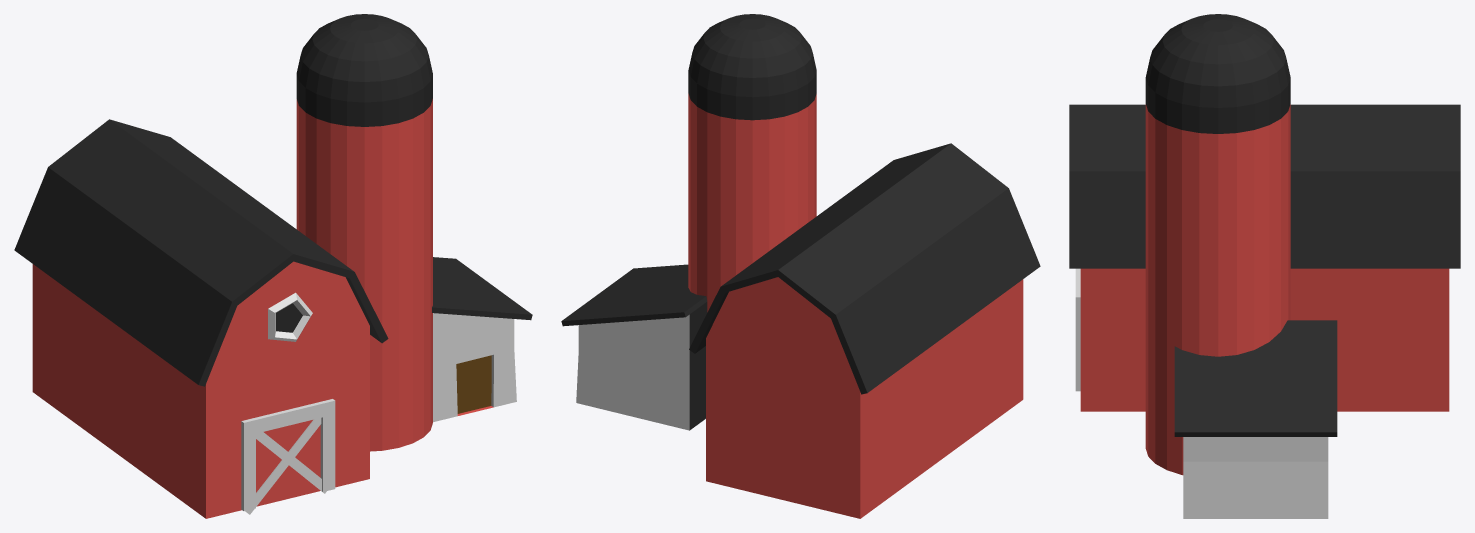
File: Barn.fbx
3 renders of one model, left to right at view 1: azimuth 30°, elevation 25°; view 2: azimuth 150°, elevation 25°; view 3: azimuth 270°, elevation 25°, orthographic. The views are drawn at different scales.
Visible parts, largest first — view 1: Barn; view 2: Barn; view 3: Barn.
Part boxes in pixels (<box>): Barn: <box>14,14,532,518</box>; Barn: <box>561,14,1040,518</box>; Barn: <box>1069,14,1460,518</box>.
Bounding box in the file's own units: 650 × 644 × 540.
